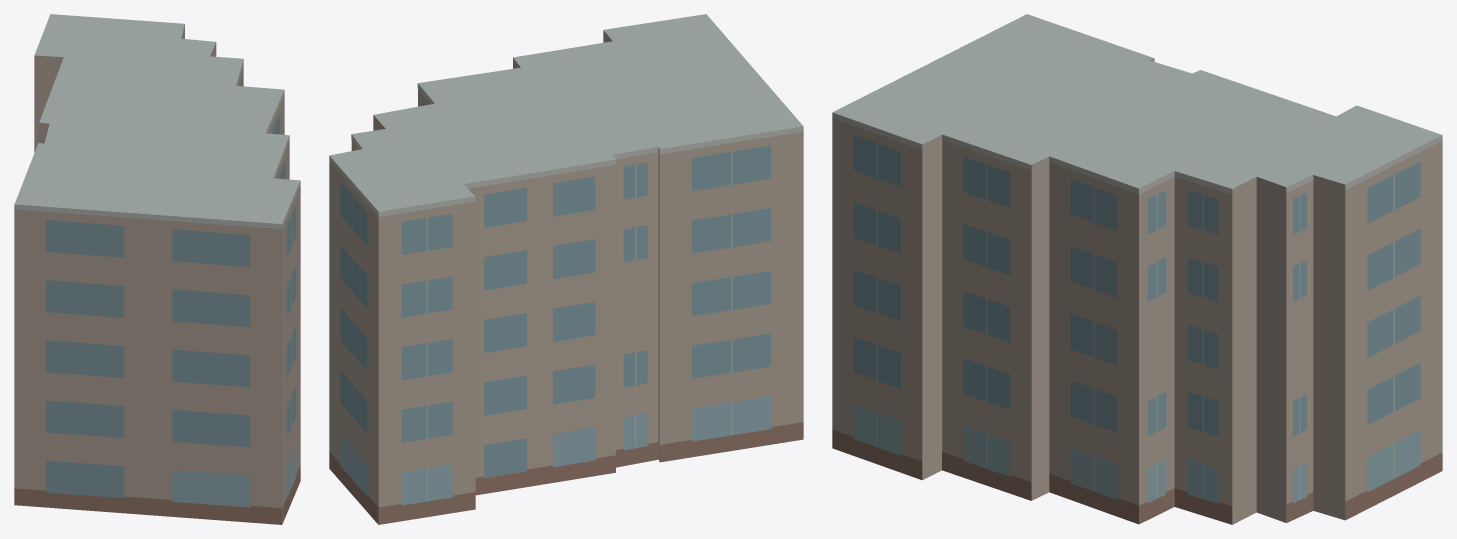
File: survey-upis-33003014.glb
3 views of the same model, side by side, from view 1: azimuth 30°, elevation 25°; view 2: azimuth 150°, elevation 25°; view 3: azimuth 270°, elevation 25° (orthographic). The views are drawn at different scales.
Parts seen in each view (by area): view 1: survey-upis-33003014.tmp; view 2: survey-upis-33003014.tmp; view 3: survey-upis-33003014.tmp.
Part boxes in pixels (box(x1,y1,x2,y2)): survey-upis-33003014.tmp: box(14, 14, 300, 524); survey-upis-33003014.tmp: box(329, 14, 803, 524); survey-upis-33003014.tmp: box(832, 14, 1442, 524).
Bounding box in the file's own units: 16.16 × 14.45 × 23.81.
